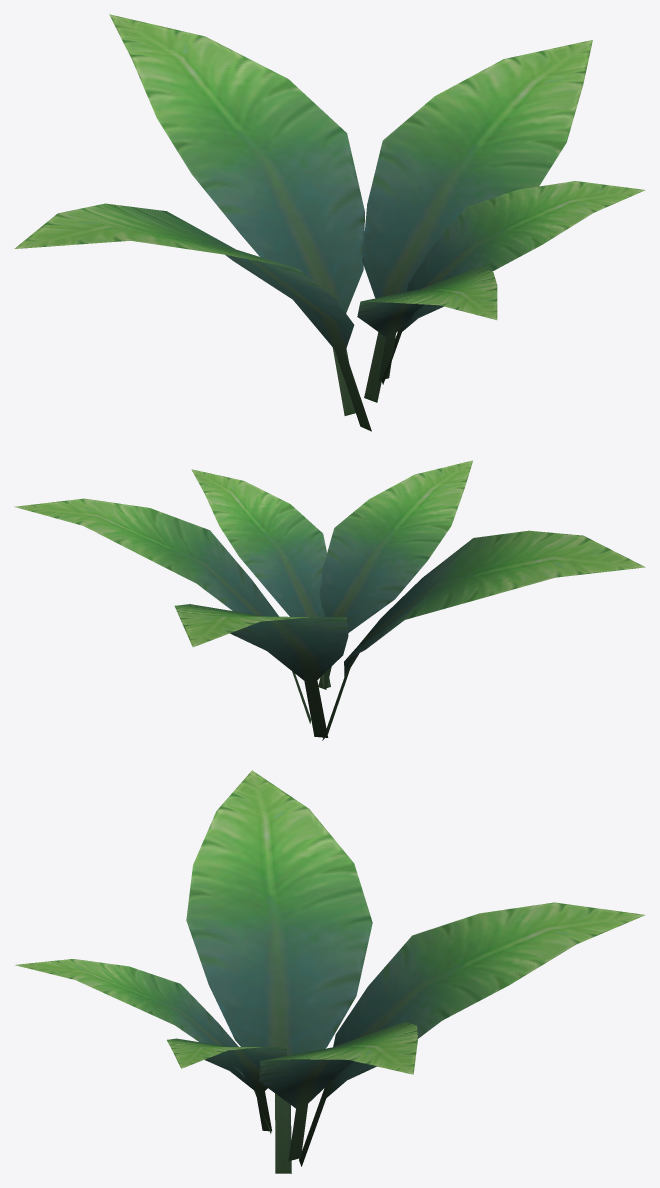
File: sucai_09.FBX
The picture shows the model from 3 angles, top to bottom: view 1: azimuth 30°, elevation 25°; view 2: azimuth 150°, elevation 25°; view 3: azimuth 270°, elevation 25°; orthographic projection. The views are drawn at different scales.
Parts seen in each view (by area): view 1: sucai_08; view 2: sucai_08; view 3: sucai_08.
Part boxes in pixels (bbox=[...]): sucai_08: bbox=[14, 14, 645, 431]; sucai_08: bbox=[14, 460, 645, 740]; sucai_08: bbox=[15, 770, 645, 1173].
Size of the model in its own units: 186 by 75.33 by 175.
